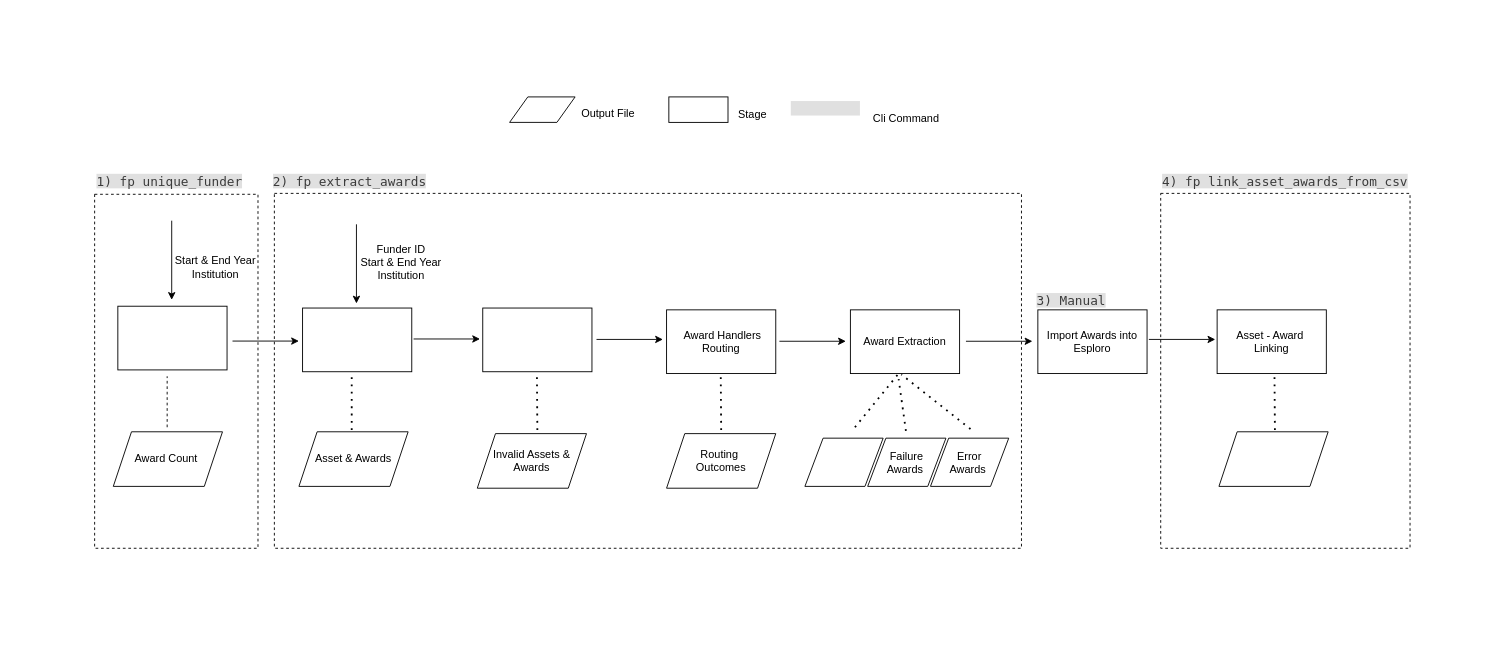
Some shapes in this 1505 by 658 pixel diagram are drawn without their labels. The box of each missing label's shape, as (x1, y1, x2, y2) in pixels:
Assets Validation: (482, 307, 592, 372)
Count Awards Per Funder: (117, 305, 227, 370)
Error Linking: (1218, 431, 1328, 486)
OpenAlex Awards Collection: (302, 307, 412, 372)
Success Awards: (804, 437, 883, 486)
